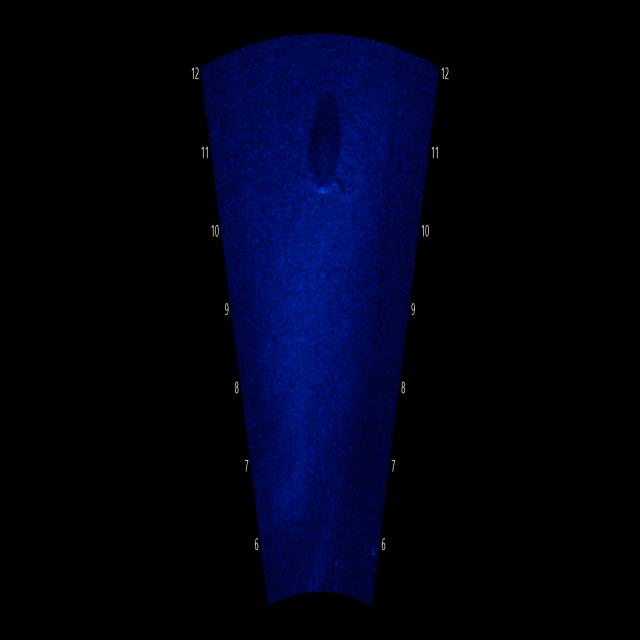circle: (297, 86, 354, 209)
